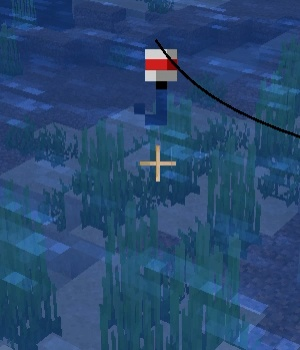up: (131, 39, 180, 130)
